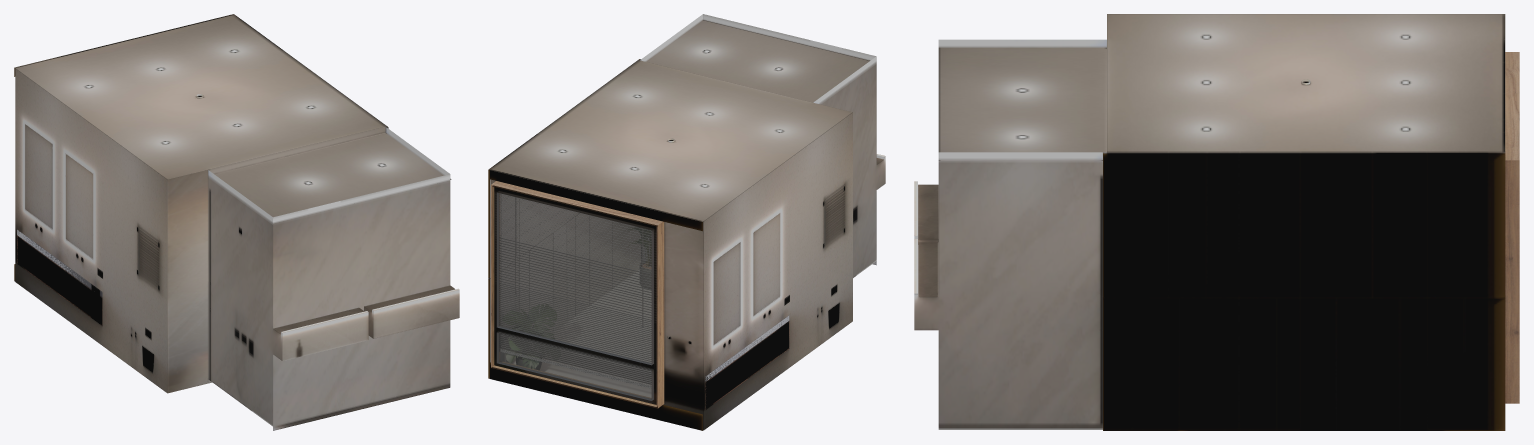
File: Collection.glb
3 renders of one model, left to right at view 1: azimuth 30°, elevation 25°; view 2: azimuth 150°, elevation 25°; view 3: azimuth 270°, elevation 25°, orthographic. The views are drawn at different scales.
Visible parts, largest first — view 1: product_bathroom_wall_0, Ceiling_Baked, product_bathroom_mirror_back_0, Bathroom Area wall_01_Baked.001, Bathroom Storage_Baked, master_bath_0_1_Baked; view 2: Ceiling_Baked, product_bathroom_mirror_back_0, Shower_Glass, textures058_Baked, Bathroom Area wall_01_Baked.001, Bathroom Area wall_01.001_Baked, product_bathroom_wall_0, Bathroom Area wall_03_Baked, textures022_Baked, textures023_Baked, product_bathroom_floor_0, Plant_133_Baked (+1 smaller); view 3: Bathroom Area wall_03_Baked, Ceiling_Baked, product_bathroom_wall_0, textures023_Baked, Bathroom Storage_Baked.
Boxes of the visible parts, bbox=[...] form: product_bathroom_wall_0: bbox=[208, 128, 450, 430]; Ceiling_Baked: bbox=[14, 14, 451, 216]; product_bathroom_mirror_back_0: bbox=[15, 68, 167, 393]; Bathroom Area wall_01_Baked.001: bbox=[167, 127, 388, 392]; Bathroom Storage_Baked: bbox=[273, 285, 459, 360]; master_bath_0_1_Baked: bbox=[17, 229, 83, 309]; Ceiling_Baked: bbox=[489, 20, 869, 221]; product_bathroom_mirror_back_0: bbox=[704, 112, 852, 429]; Shower_Glass: bbox=[497, 193, 651, 399]; textures058_Baked: bbox=[499, 194, 651, 388]; Bathroom Area wall_01_Baked.001: bbox=[488, 59, 641, 378]; Bathroom Area wall_01.001_Baked: bbox=[490, 179, 703, 430]; product_bathroom_wall_0: bbox=[641, 14, 885, 277]; Bathroom Area wall_03_Baked: bbox=[488, 59, 702, 430]; textures022_Baked: bbox=[494, 187, 656, 404]; textures023_Baked: bbox=[491, 181, 664, 408]; product_bathroom_floor_0: bbox=[511, 270, 703, 430]; Plant_133_Baked: bbox=[501, 304, 560, 369]; Bathroom Area wall_03_Baked: bbox=[1103, 153, 1505, 430]; Ceiling_Baked: bbox=[938, 14, 1505, 160]; product_bathroom_wall_0: bbox=[914, 39, 1106, 429]; textures023_Baked: bbox=[1505, 52, 1519, 403]; Bathroom Storage_Baked: bbox=[914, 181, 938, 296].
Bounding box in the file's own units: 3.59 × 3.36 × 6.59.
49 materials, 47 textured.
